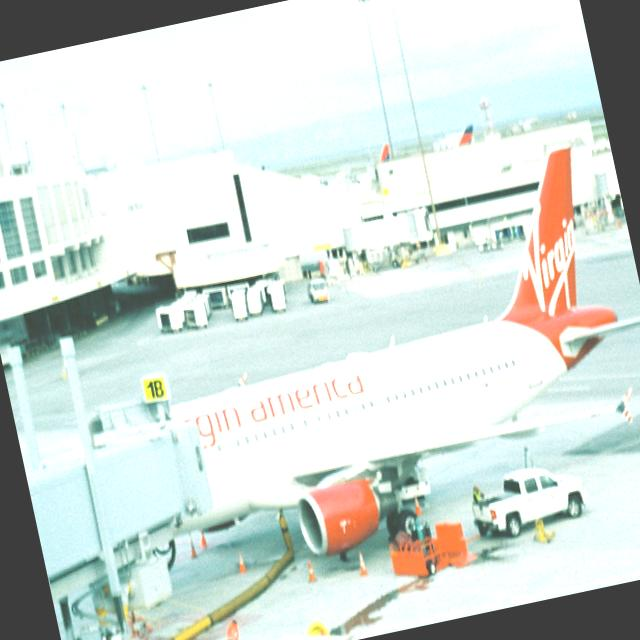Vehicle: (467, 456, 594, 542), (304, 278, 330, 306)
